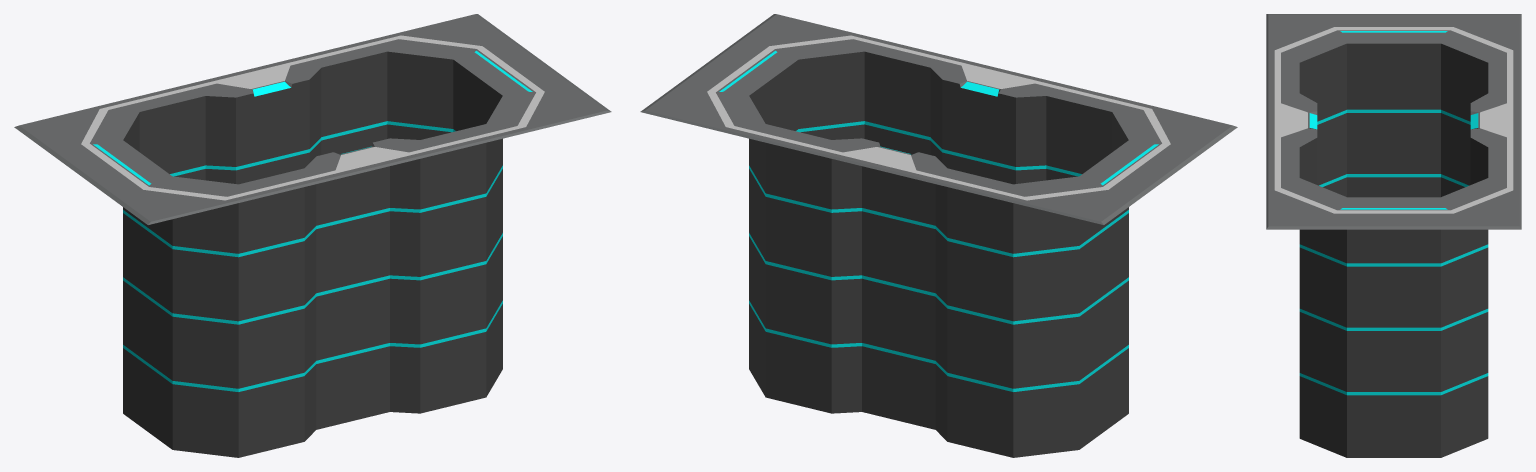
Rendered from Plaza_Lift_Frame.fbx.
The picture shows the model from 3 angles, left to right: view 1: azimuth 30°, elevation 25°; view 2: azimuth 150°, elevation 25°; view 3: azimuth 270°, elevation 25°; orthographic projection. The views are drawn at different scales.
Visible parts, largest first — view 1: Plaza_Lift_Frame; view 2: Plaza_Lift_Frame; view 3: Plaza_Lift_Frame.
Boxes of the visible parts, left/top/right/bottom form: Plaza_Lift_Frame: left=14, top=14, right=611, bottom=457; Plaza_Lift_Frame: left=640, top=14, right=1237, bottom=457; Plaza_Lift_Frame: left=1266, top=14, right=1521, bottom=457.
Bounding box in the file's own units: 24 × 13.52 × 12.
